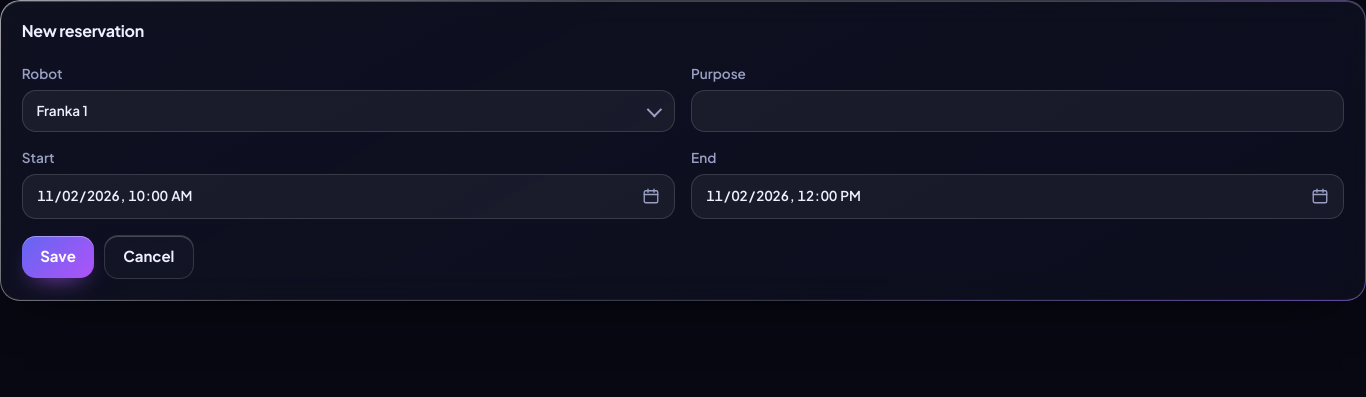
Test: ReservationForm › shows other errors as text
Click the button "Save". click: (58,257)
box: 22,236 -> 94,278
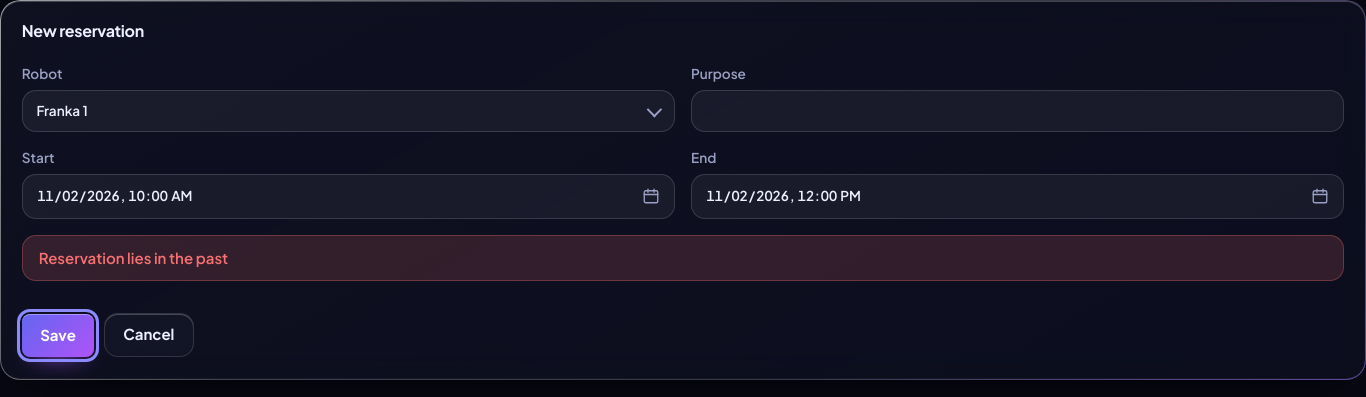
expect the text "Reservation lies in the past" is shown: met, box 22,235 -> 1344,282
